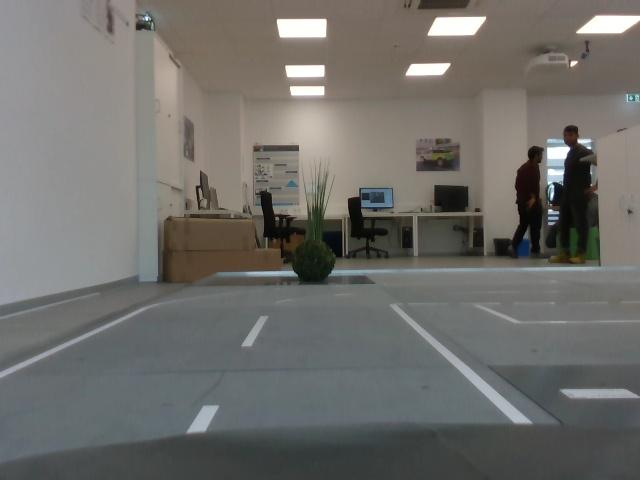potted plant: (301, 157, 331, 245), (293, 244, 338, 283)
